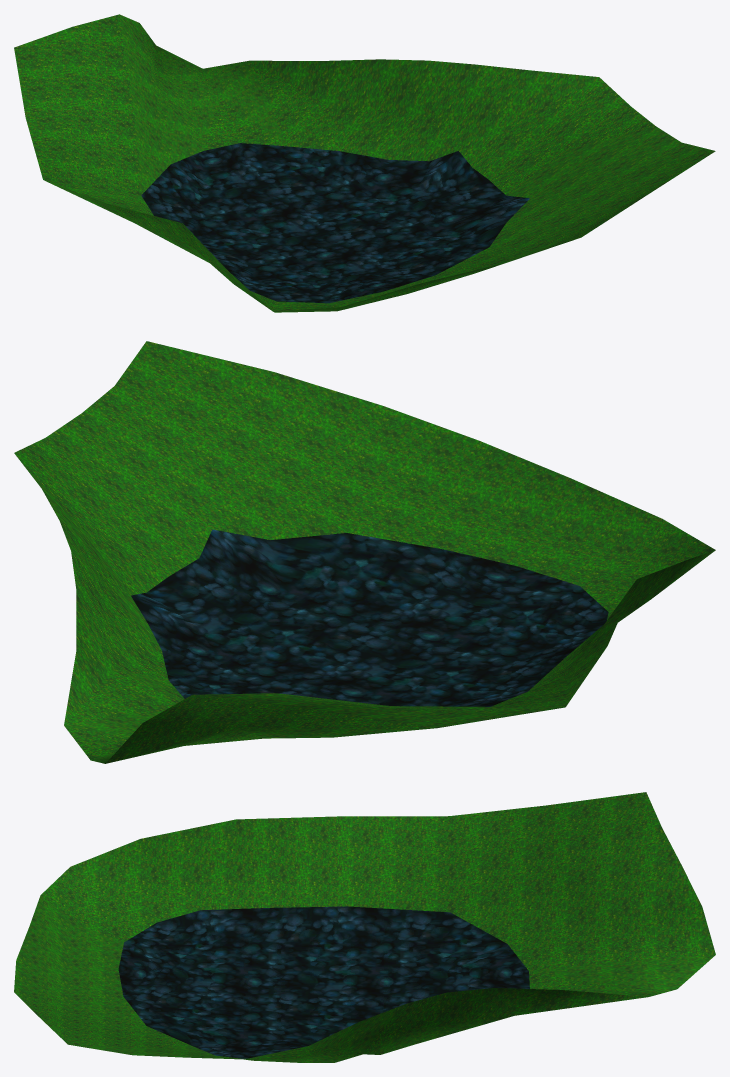
File: HTOWN01_PS20.fbx
3 renders of one model, top to bottom at view 1: azimuth 30°, elevation 25°; view 2: azimuth 150°, elevation 25°; view 3: azimuth 270°, elevation 25°, orthographic. The views are drawn at different scales.
Parts seen in each view (by area): view 1: HTOWN01_PS20; view 2: HTOWN01_PS20; view 3: HTOWN01_PS20.
Boxes of the visible parts, <box> form: HTOWN01_PS20: <box>14,14,715,312</box>; HTOWN01_PS20: <box>14,341,715,763</box>; HTOWN01_PS20: <box>14,792,715,1062</box>.
Bounding box in the file's own units: 315298 × 67175 × 350943.
2 materials, 2 textured.
